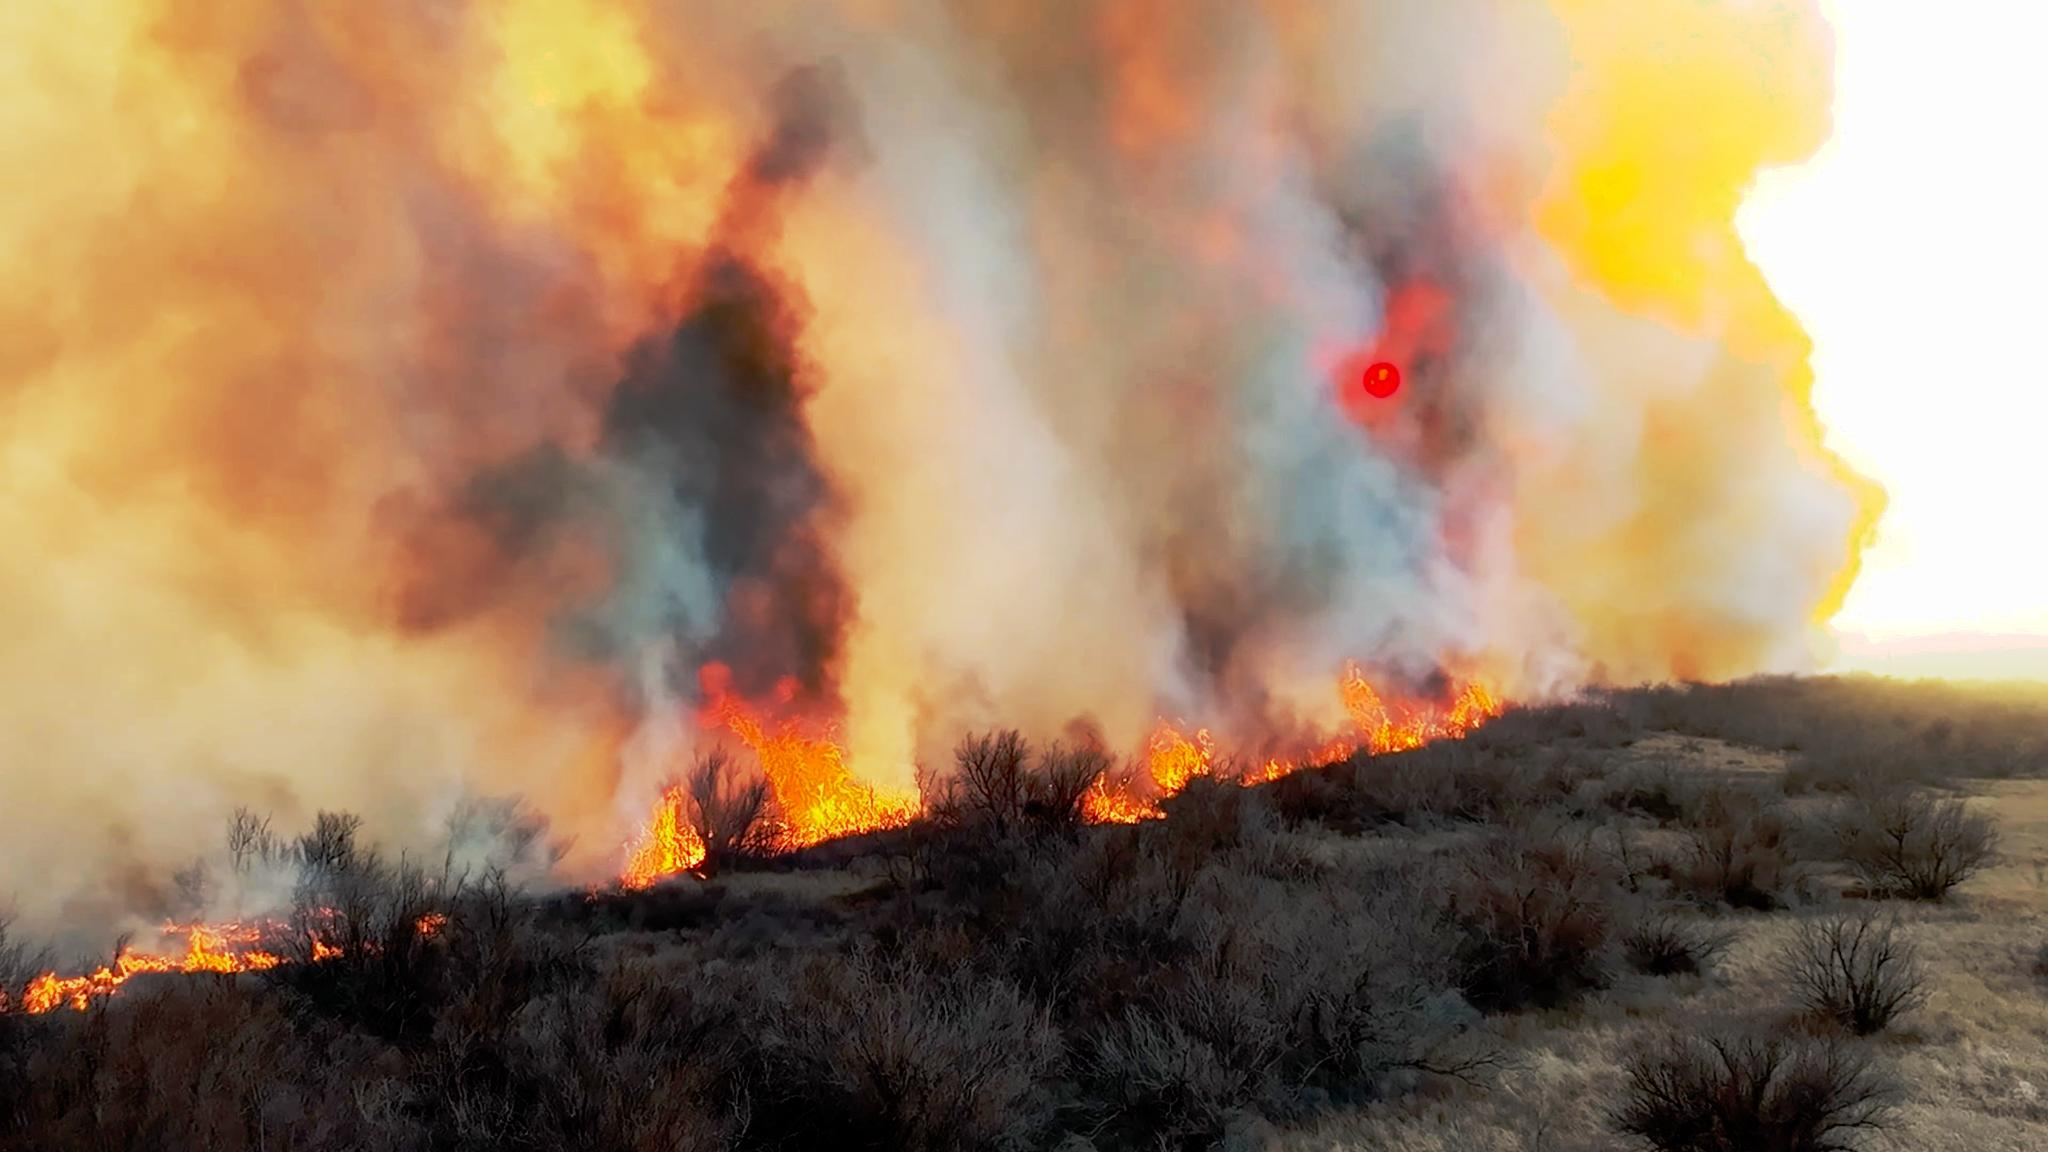fire: (626, 661, 910, 872), (0, 921, 252, 1032), (1319, 640, 1536, 758), (1083, 717, 1265, 830)
smoke: (603, 20, 914, 653), (1089, 21, 1291, 643)
